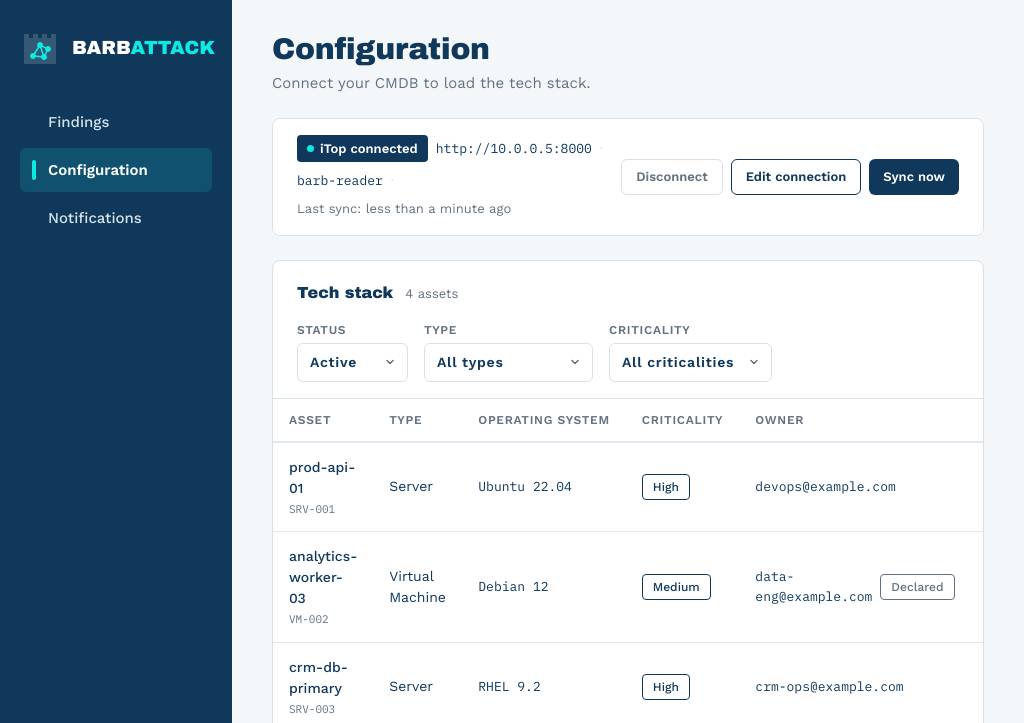
it: Tech stack › the inactive filter reaches assets no longer monitored and says since when
Expected: the text "iTop connected" is shown, [297,134,428,162]
Expected: the row "prod-api-01" is shown, [273,442,983,532]
Select "Inactive" in the dropdown labelled "Status": [352, 362] box [297,342,408,382]
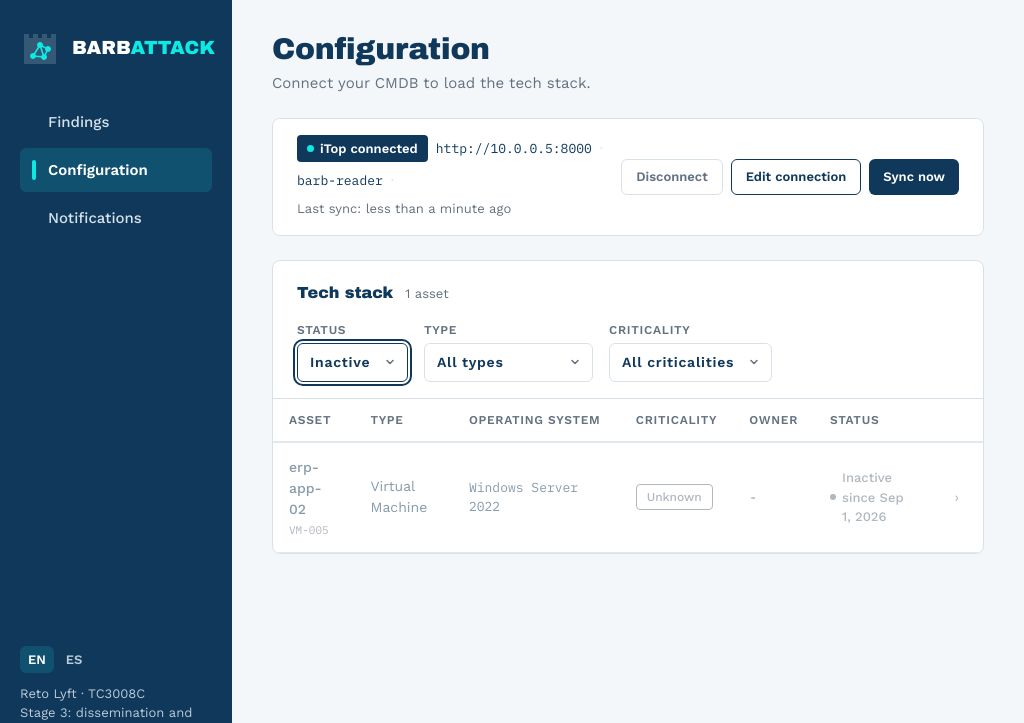
Result: the row "erp-app-02" shows "Unknown" at [647,490,702,504]
Result: the row "erp-app-02" shows "Inactive since Sep 1, 2026" at [842,470,904,524]
Result: the text "1 asset" is shown at [405,284,449,303]
